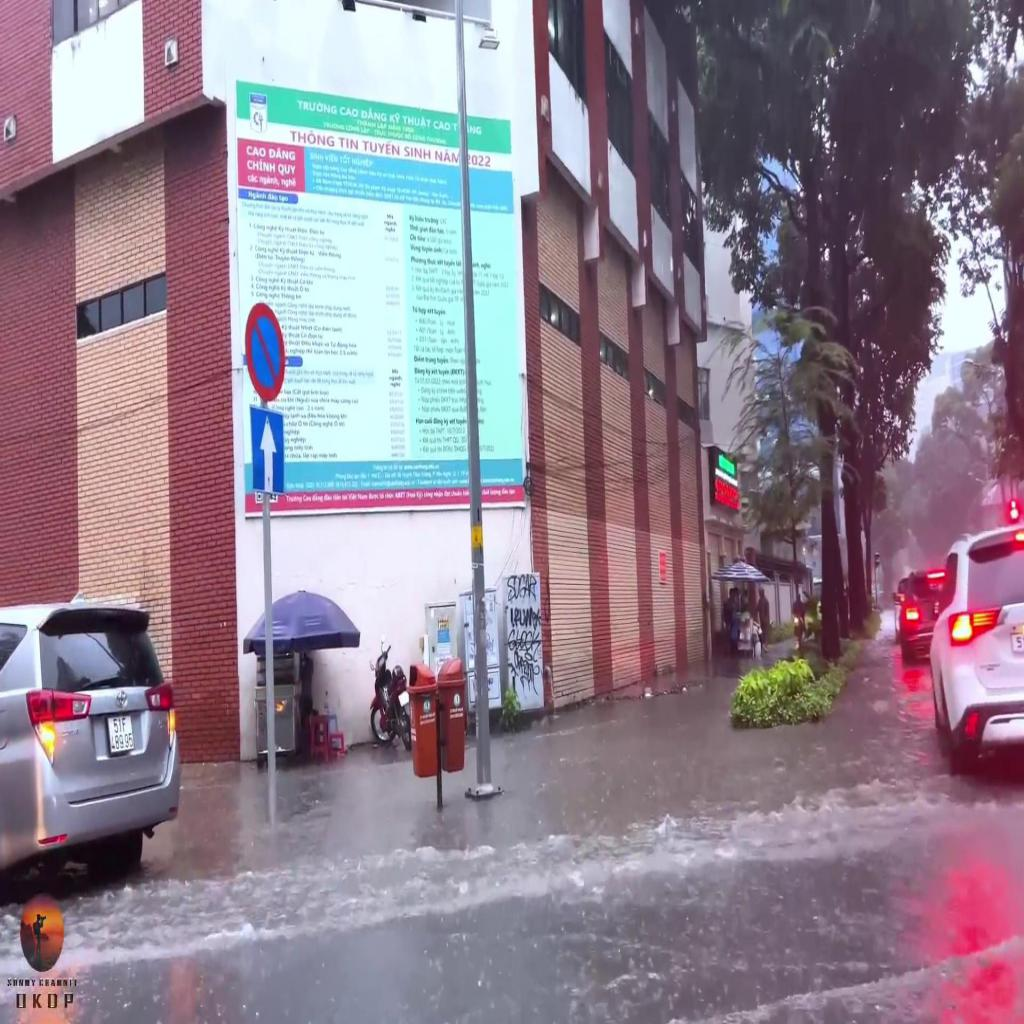cam_do_xe: (245, 301, 286, 403)
duong_mot_chieu: (250, 405, 284, 495)
